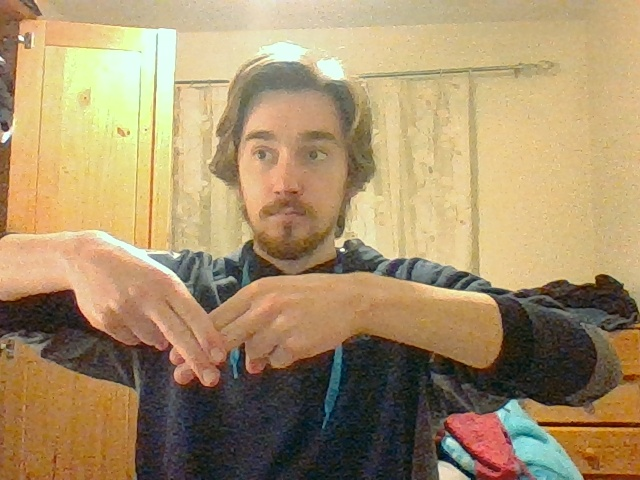father: (140, 270, 272, 388)
